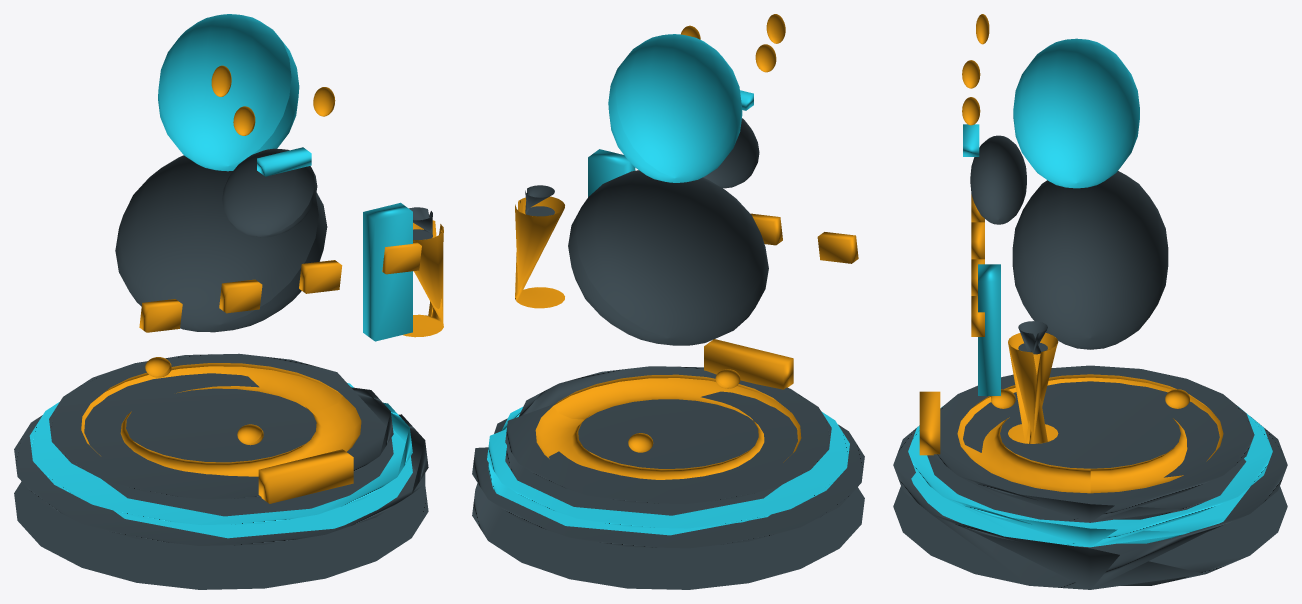
File: pain_hider.glb
3 views of the same model, side by side, from view 1: azimuth 30°, elevation 25°; view 2: azimuth 150°, elevation 25°; view 3: azimuth 270°, elevation 25° (orthographic). The views are drawn at different scales.
Visible parts, largest first — view 1: pain_hider_#35434A, pain_hider_#22D3EE, pain_hider_#F59E0B; view 2: pain_hider_#35434A, pain_hider_#22D3EE, pain_hider_#F59E0B; view 3: pain_hider_#35434A, pain_hider_#22D3EE, pain_hider_#F59E0B.
Part boxes in pixels (bbox=[...]): pain_hider_#35434A: bbox=[14, 148, 432, 589]; pain_hider_#22D3EE: bbox=[29, 14, 412, 538]; pain_hider_#F59E0B: bbox=[81, 65, 443, 503]; pain_hider_#35434A: bbox=[472, 118, 864, 589]; pain_hider_#22D3EE: bbox=[487, 34, 849, 535]; pain_hider_#F59E0B: bbox=[515, 14, 858, 479]; pain_hider_#35434A: bbox=[893, 135, 1287, 589]; pain_hider_#22D3EE: bbox=[908, 38, 1272, 547]; pain_hider_#F59E0B: bbox=[919, 14, 1223, 493].
Bounding box in the file's own units: 1.76 × 2.24 × 1.72.
